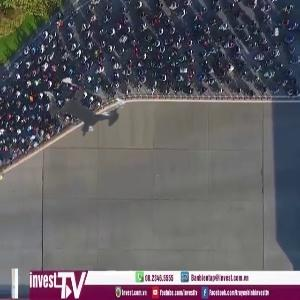drone: (20, 49, 144, 173)
